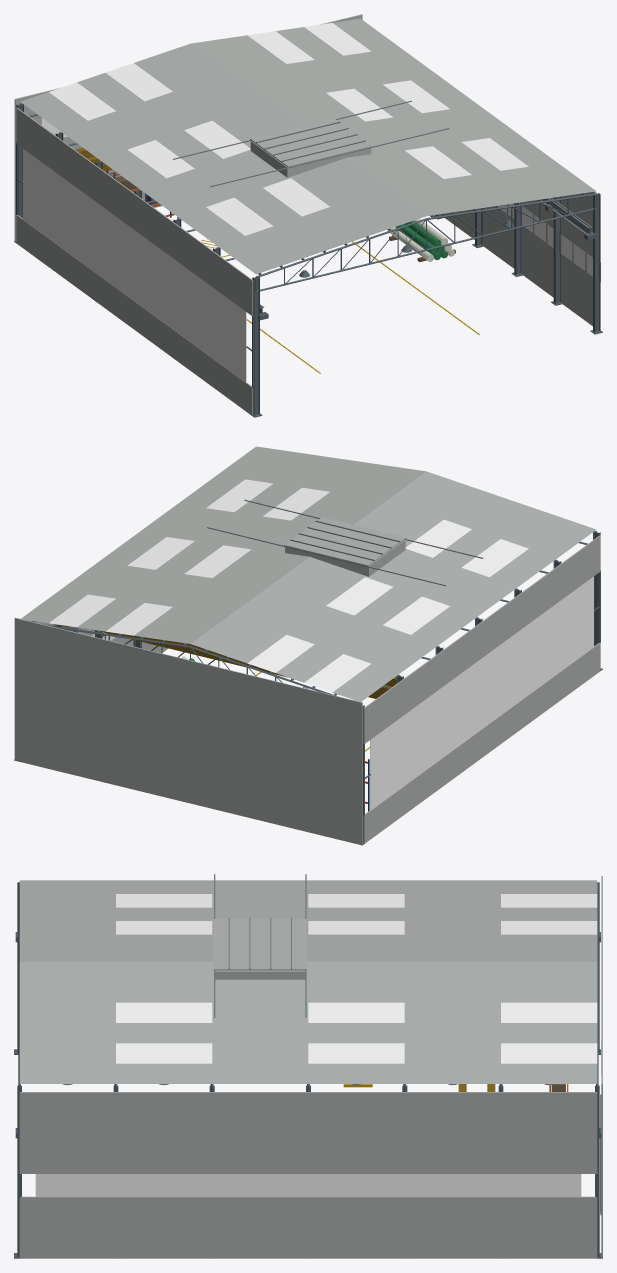
The model's file is workshop.glb.
3 renders of one model, top to bottom at view 1: azimuth 30°, elevation 25°; view 2: azimuth 150°, elevation 25°; view 3: azimuth 270°, elevation 25°, orthographic. The views are drawn at different scales.
Visible parts, largest first — view 1: ws_clad, ws_glow_window, ws_glow_sky, ws_steel, ws_hatch_l, ws_hatch_r, ws_frp; view 2: ws_clad, ws_glow_window, ws_glow_sky, ws_steel, ws_hatch_l, ws_hatch_r, ws_crane; view 3: ws_clad, ws_glow_sky, ws_glow_window, ws_steel, ws_hatch_r, ws_hatch_l.
Boxes of the visible parts, x1,y1,x2,y2 form: ws_clad: (14, 14, 597, 415); ws_glow_window: (23, 117, 592, 382); ws_glow_sky: (49, 23, 528, 235); ws_steel: (14, 100, 602, 417); ws_hatch_l: (250, 128, 329, 167); ws_hatch_r: (292, 118, 371, 157); ws_frp: (390, 218, 455, 261); ws_clad: (14, 446, 600, 845); ws_glow_window: (91, 576, 593, 810); ws_glow_sky: (49, 479, 528, 692); ws_steel: (14, 499, 602, 845); ws_hatch_l: (326, 527, 406, 566); ws_hatch_r: (284, 517, 363, 556); ws_crane: (60, 625, 396, 698); ws_clad: (19, 876, 602, 1258); ws_glow_sky: (116, 894, 597, 1063); ws_glow_window: (35, 918, 601, 1197); ws_steel: (14, 874, 602, 1258); ws_hatch_r: (213, 943, 306, 970); ws_hatch_l: (213, 917, 306, 943).
Size of the model in its own units: 30.7 by 13.84 by 36.7.
